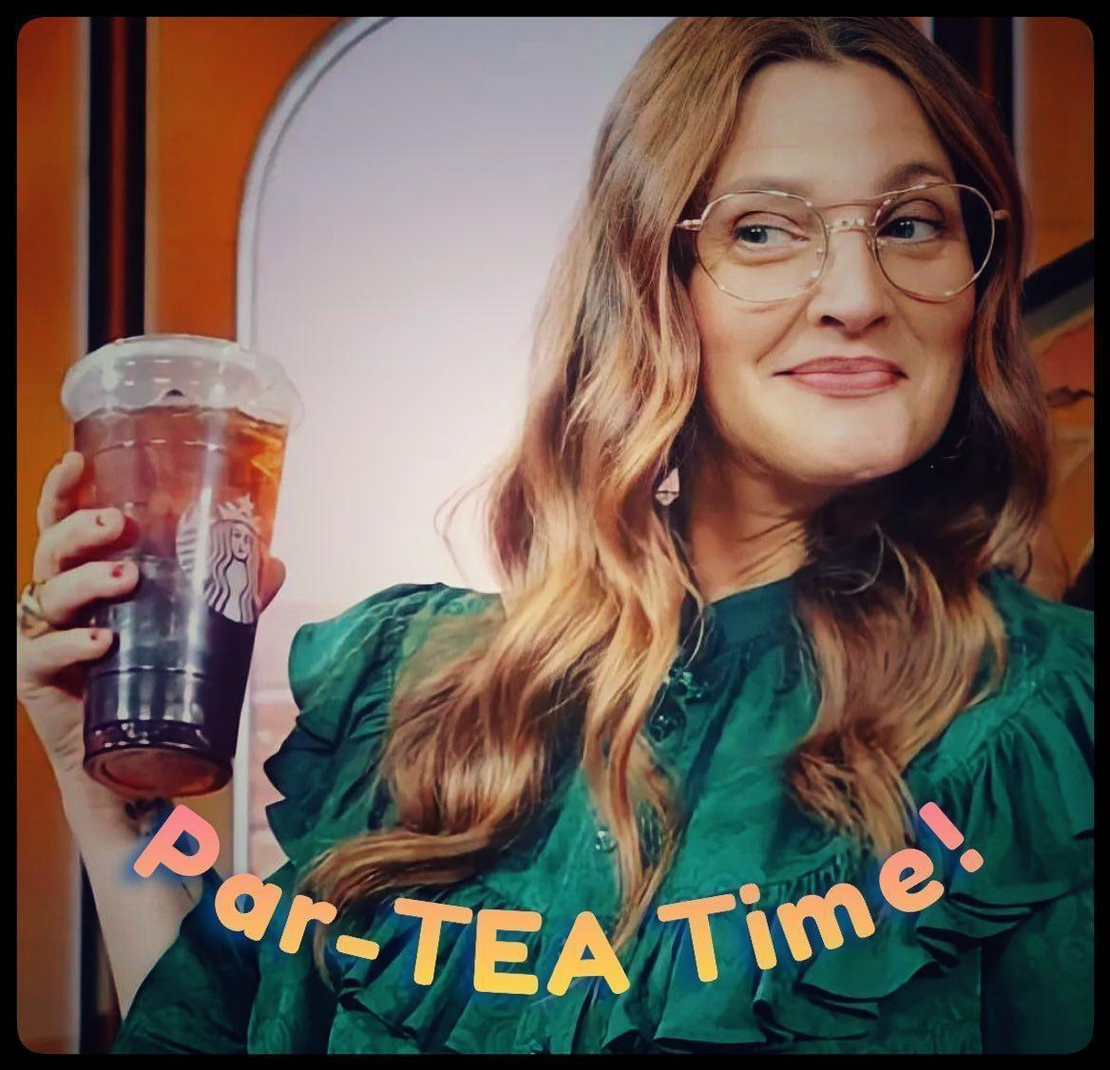cup-disposable: (61, 331, 309, 803)
